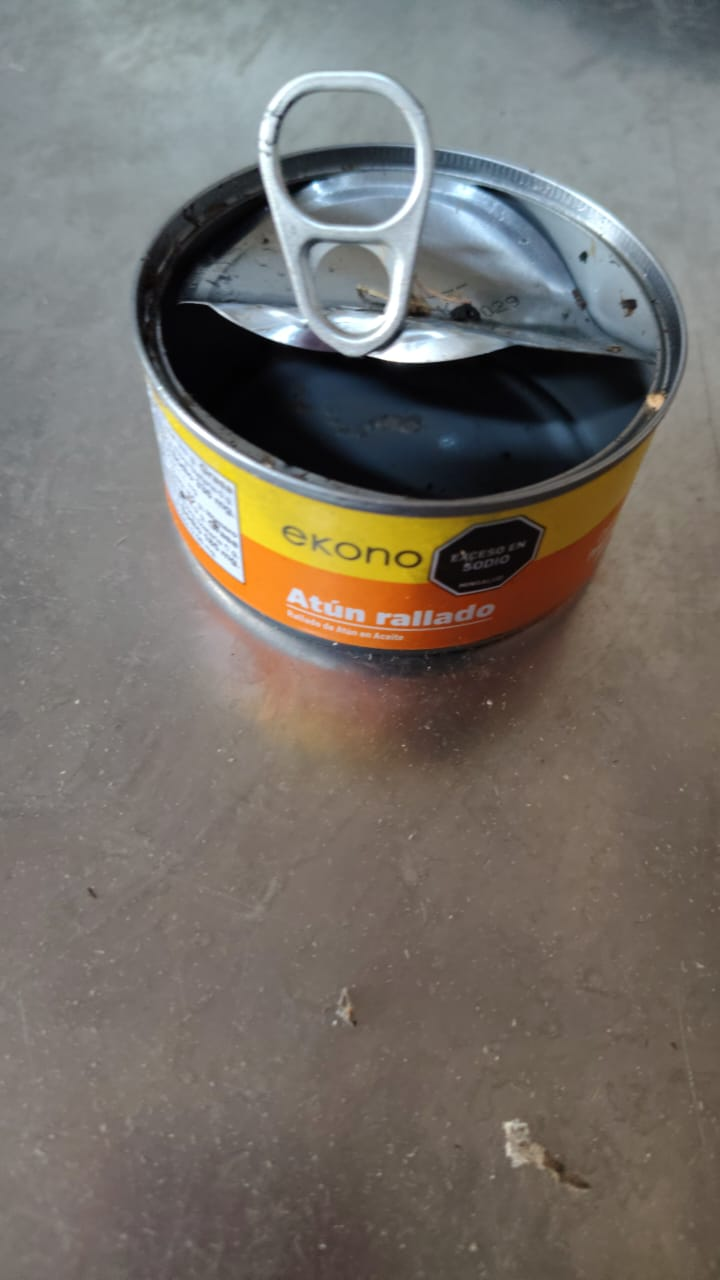Metal: (137, 68, 693, 659)
